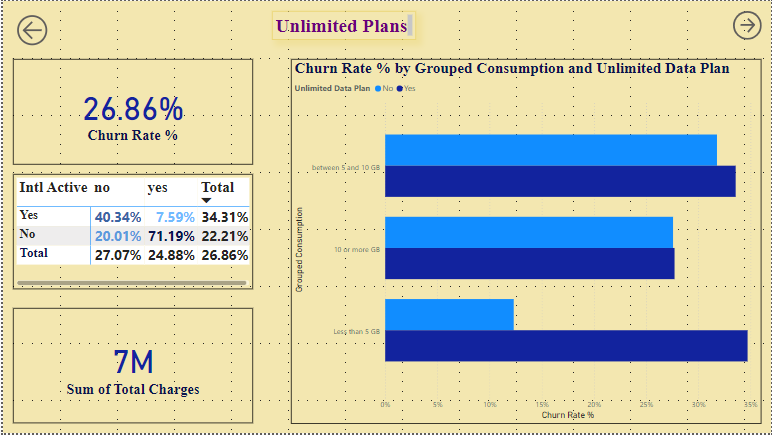

What the dashboard file says about the page in this screenshot:
{"tool":"powerbi","page":{"name":"Unlimited Plans","canvas":[1280,720],"ordinal":3},"visuals":[{"type":"clusteredBarChart","fields":{"Category":["Databel - Data.Grouped Consumption"],"Y":["__Measures.Churn Rate %"],"Series":["Databel - Data.Unlimited Data Plan"]},"box":[480,96,784,608],"z":0},{"type":"pivotTable","fields":{"Rows":["Databel - Data.Intl Active"],"Values":["__Measures.Churn Rate %"],"Columns":["Databel - Data.Intl Plan"]},"box":[16,288,400,192],"z":1000},{"type":"card","fields":{"Values":["__Measures.Churn Rate %"]},"box":[16,96,400,176],"z":2000},{"type":"card","fields":{"Values":["Sum(Databel - Data.Total Charges)"]},"box":[16,512,400,192],"z":3000},{"type":"actionButton","box":[16,16,64,64],"z":4000},{"type":"actionButton","box":[1216,16,48,48],"z":5000},{"type":"textbox","box":[448,16,240,48],"z":5001}]}

Visuals, with their boxes in screenshot pixels (x1, y1, x2, y2), scaled from the page's 1280x720 canvas onto the 772x435 screenshot:
clusteredBarChart - Databel - Data.Grouped Consumption x __Measures.Churn Rate %: bbox(290, 58, 762, 425)
pivotTable - Databel - Data.Intl Active x __Measures.Churn Rate %: bbox(10, 174, 251, 290)
card - __Measures.Churn Rate %: bbox(10, 58, 251, 164)
card - Sum(Databel - Data.Total Charges): bbox(10, 309, 251, 425)
actionButton: bbox(10, 10, 48, 48)
actionButton: bbox(733, 10, 762, 39)
textbox: bbox(270, 10, 415, 39)
